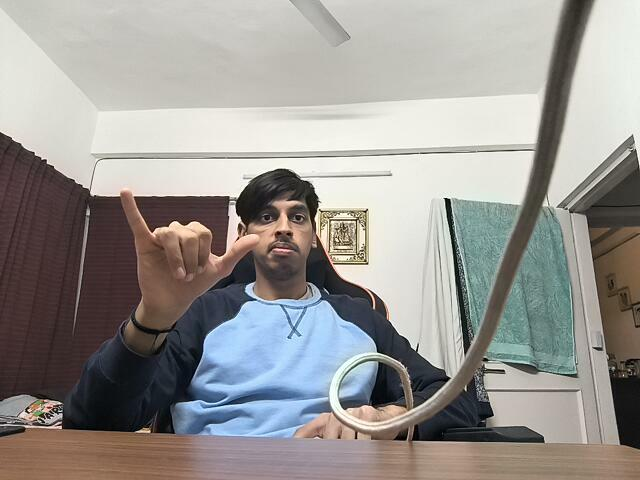FLIP: (112, 176, 261, 328)
